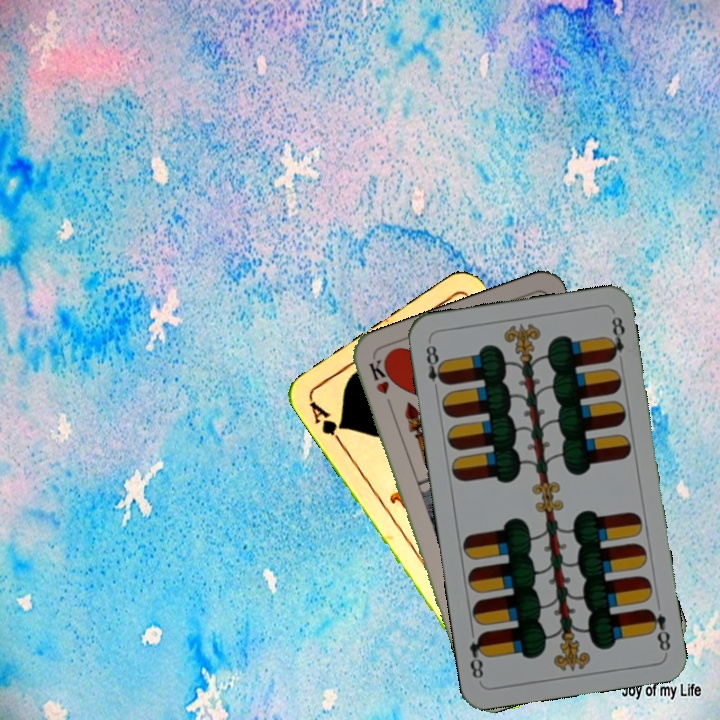E8: (422, 338, 449, 397), (643, 604, 673, 654)
GA: (304, 396, 348, 449)
HK: (365, 355, 396, 414)
